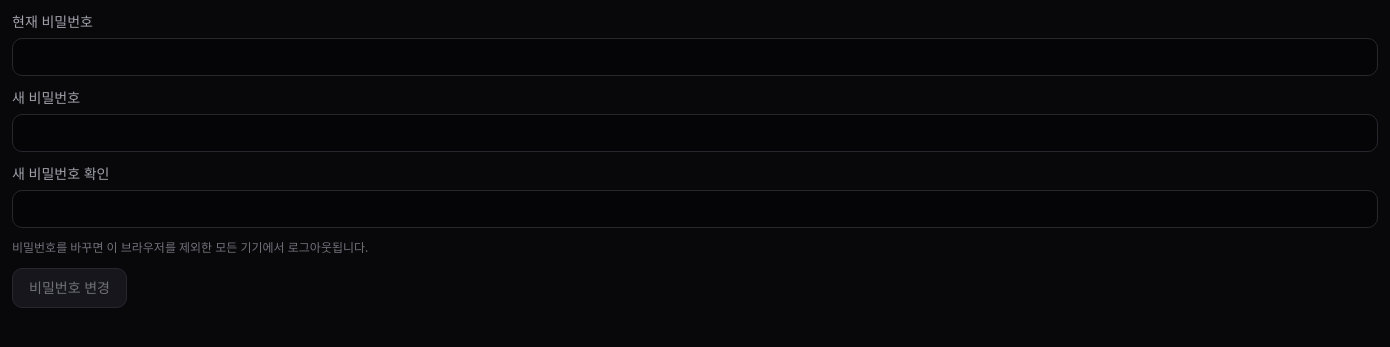
Test case: password change › will not submit while the confirmation does not match
In the password field labelled "현재 비밀번호": x=695, y=57 [12, 38, 1378, 76], type "old-password"
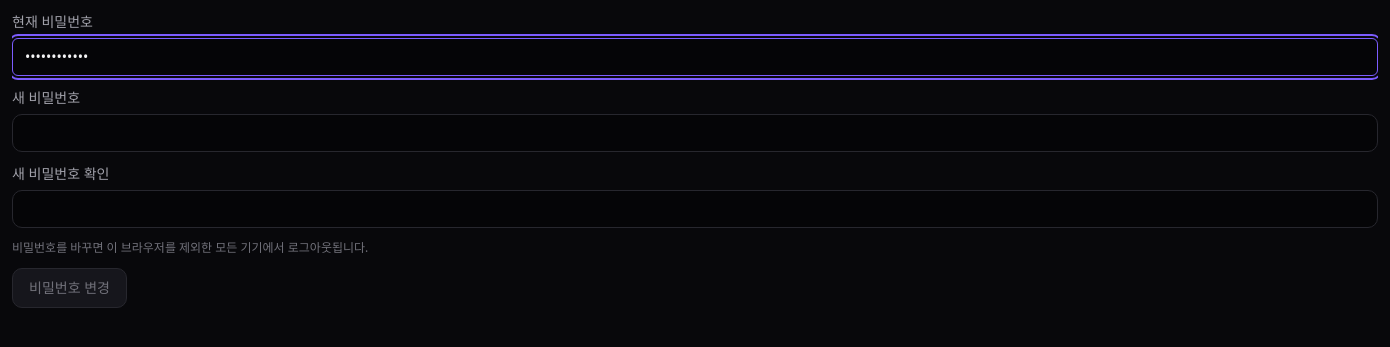
In the password field labelled "새 비밀번호": x=695, y=133 [12, 114, 1378, 152], type "a new long passphrase"
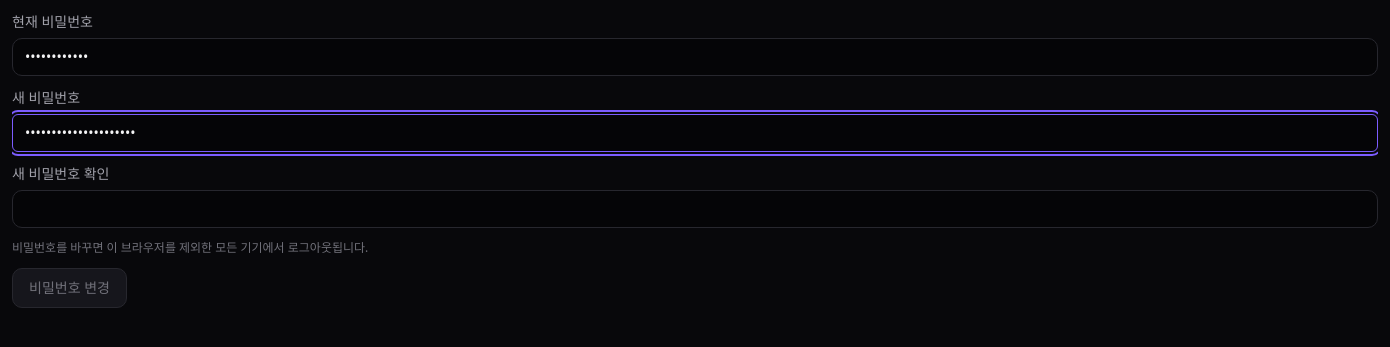
In the password field labelled "새 비밀번호 확인": x=695, y=209 [12, 190, 1378, 228], type "something else"
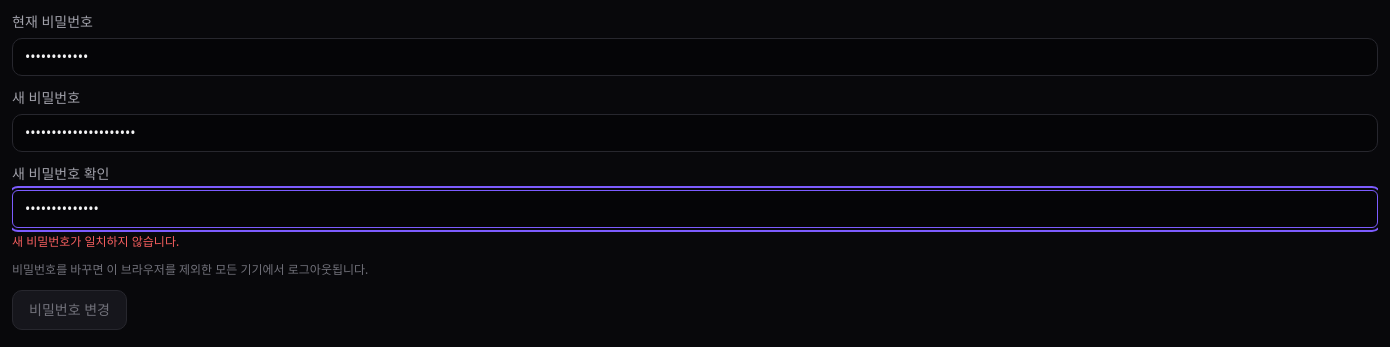
Check: the button "비밀번호 변경" is disabled, box [12, 290, 127, 330]
Check: the text "새 비밀번호가 일치하지 않습니다." is shown, box [12, 233, 179, 250]
